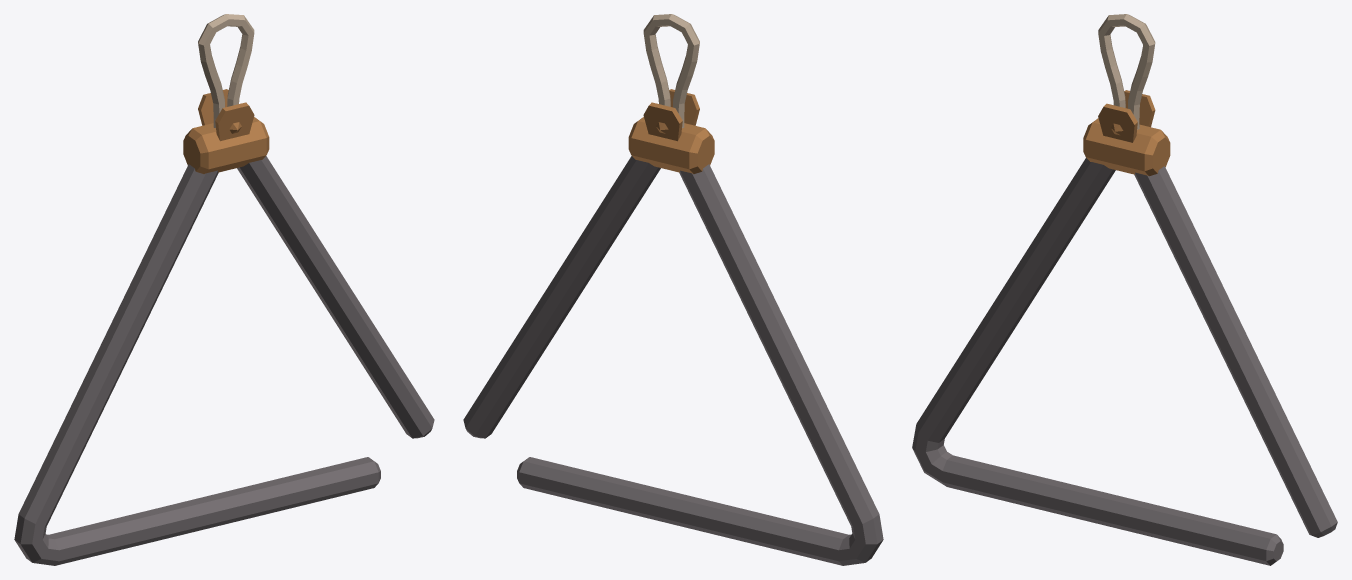
File: triangle-58e13c.glb
3 renders of one model, left to right at view 1: azimuth 30°, elevation 25°; view 2: azimuth 150°, elevation 25°; view 3: azimuth 330°, elevation 25°, orthographic.
Parts seen in each view (by area): view 1: triangle-metal, triangle-matte; view 2: triangle-metal, triangle-matte; view 3: triangle-metal, triangle-matte.
Boxes of the visible parts, x1,y1,x2,y2 form: triangle-metal: (14, 89, 434, 565); triangle-matte: (198, 14, 254, 127); triangle-metal: (463, 89, 883, 565); triangle-matte: (643, 14, 699, 127); triangle-metal: (912, 90, 1337, 565); triangle-matte: (1098, 14, 1155, 129).
Bounding box in the file's own units: 0.1947 × 0.2278 × 0.0189.
